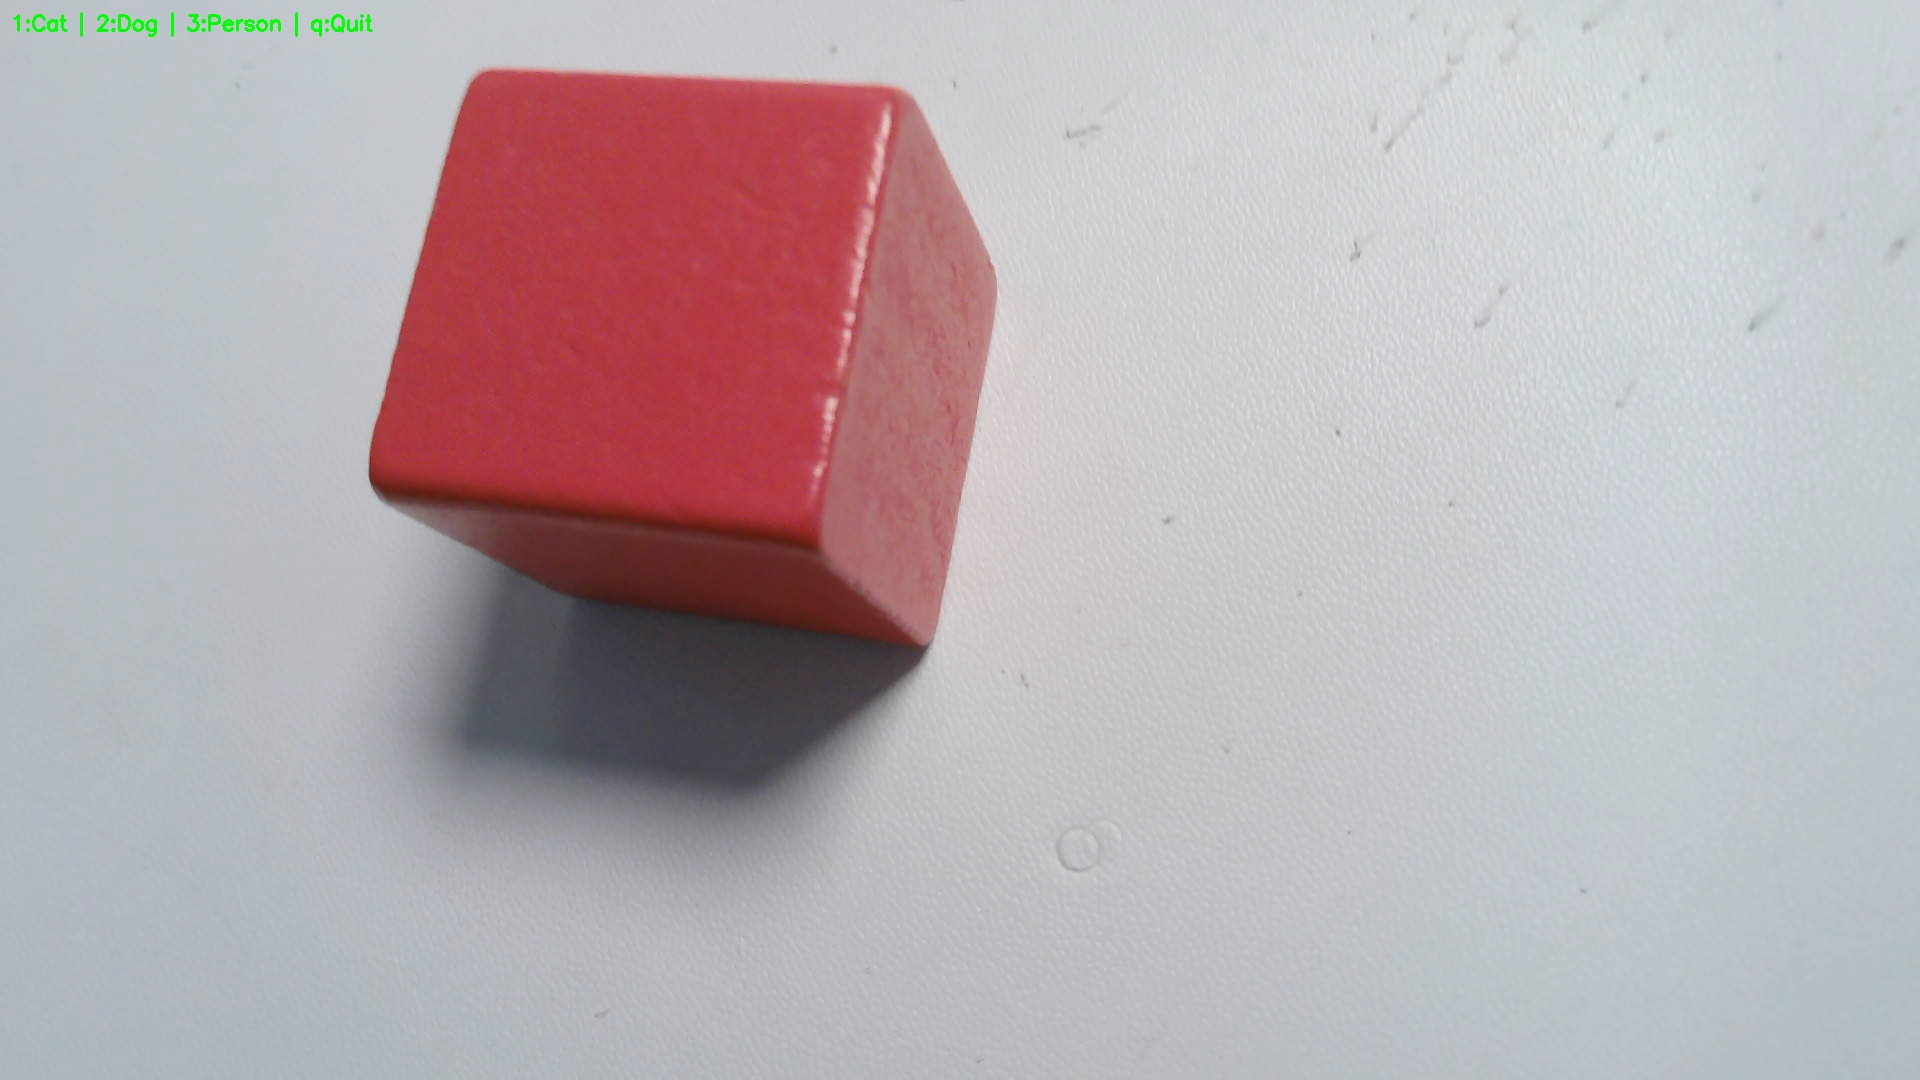red: (369, 70, 1000, 659)
